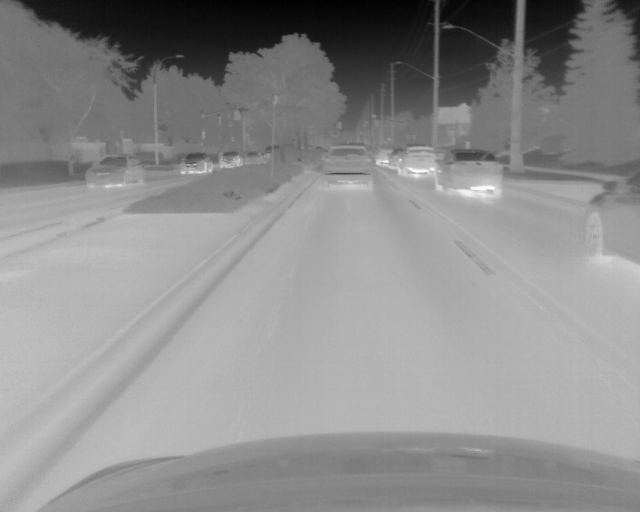car: (580, 169, 640, 269), (435, 151, 503, 198), (321, 145, 373, 189), (83, 153, 146, 188), (398, 145, 436, 176), (179, 152, 214, 174), (219, 151, 242, 169), (375, 145, 391, 165)
